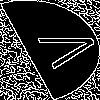V: (25, 25, 100, 73)
